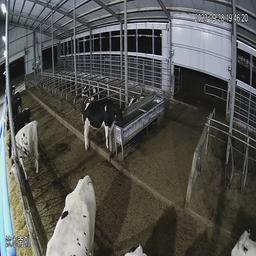cow: (39, 159, 99, 254), (80, 91, 122, 154), (209, 203, 255, 254), (10, 123, 42, 183), (4, 106, 33, 124)
